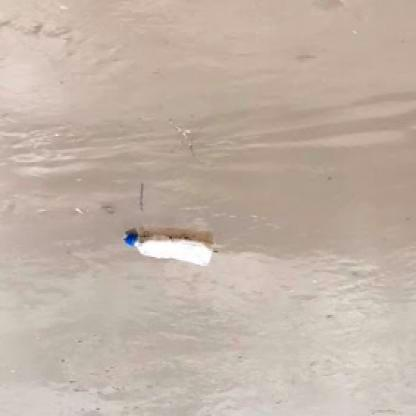Plastic: (120, 231, 215, 267)
